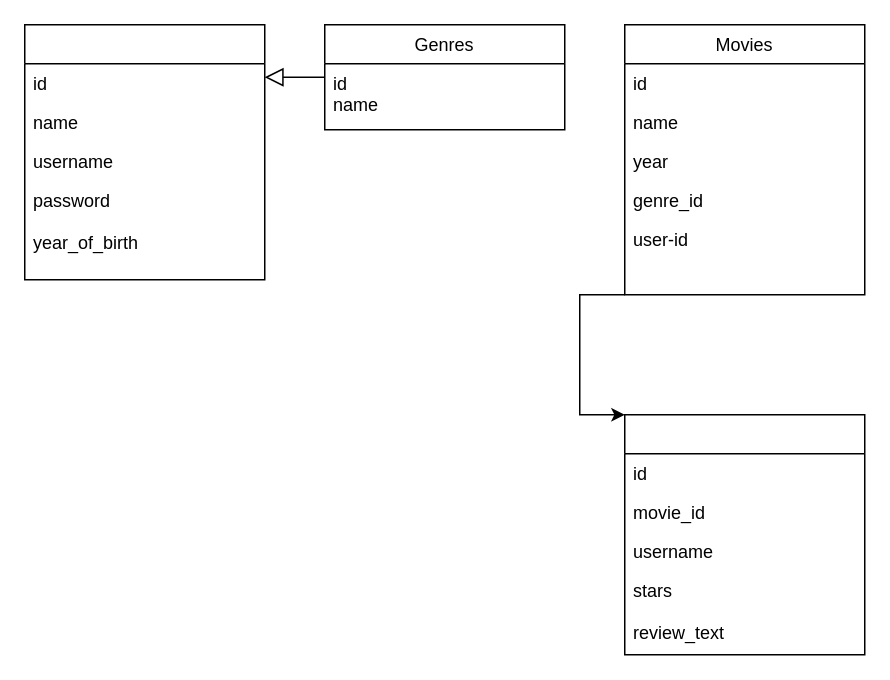
This 890x680 diagram has some shape labels left out. Here are the shapes that lost their labels. From the top down, the box of each, then its label:
(23, 23, 265, 280): Users
(623, 413, 865, 655): Reviews
